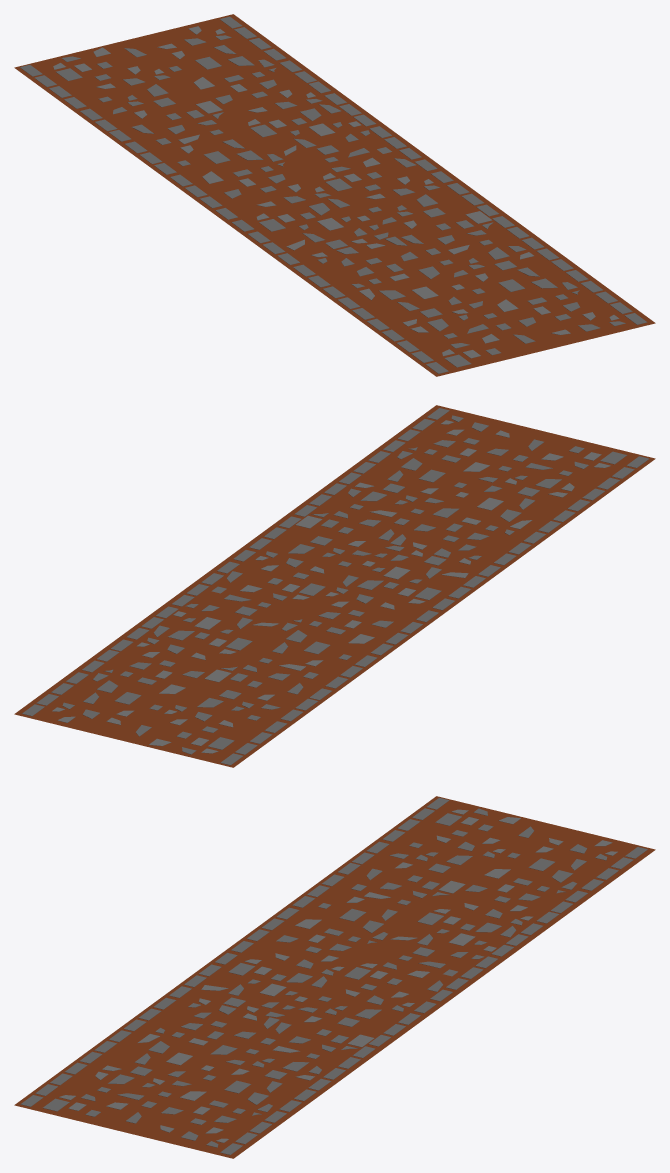
The model's file is Way New.fbx.
3 renders of one model, top to bottom at view 1: azimuth 30°, elevation 25°; view 2: azimuth 150°, elevation 25°; view 3: azimuth 330°, elevation 25°, orthographic.
Visible parts, largest first — view 1: Plane, Bodenteile; view 2: Plane, Bodenteile; view 3: Plane, Bodenteile.
Part boxes in pixels (x1=…): Plane: x1=14, y1=14, x2=655, y2=376; Bodenteile: x1=20, y1=16, x2=647, y2=373; Plane: x1=14, y1=405, x2=655, y2=767; Bodenteile: x1=22, y1=408, x2=648, y2=765; Plane: x1=14, y1=796, x2=655, y2=1158; Bodenteile: x1=20, y1=797, x2=647, y2=1154.
Size of the model in its own units: 10 by 3 by 0.00703.
